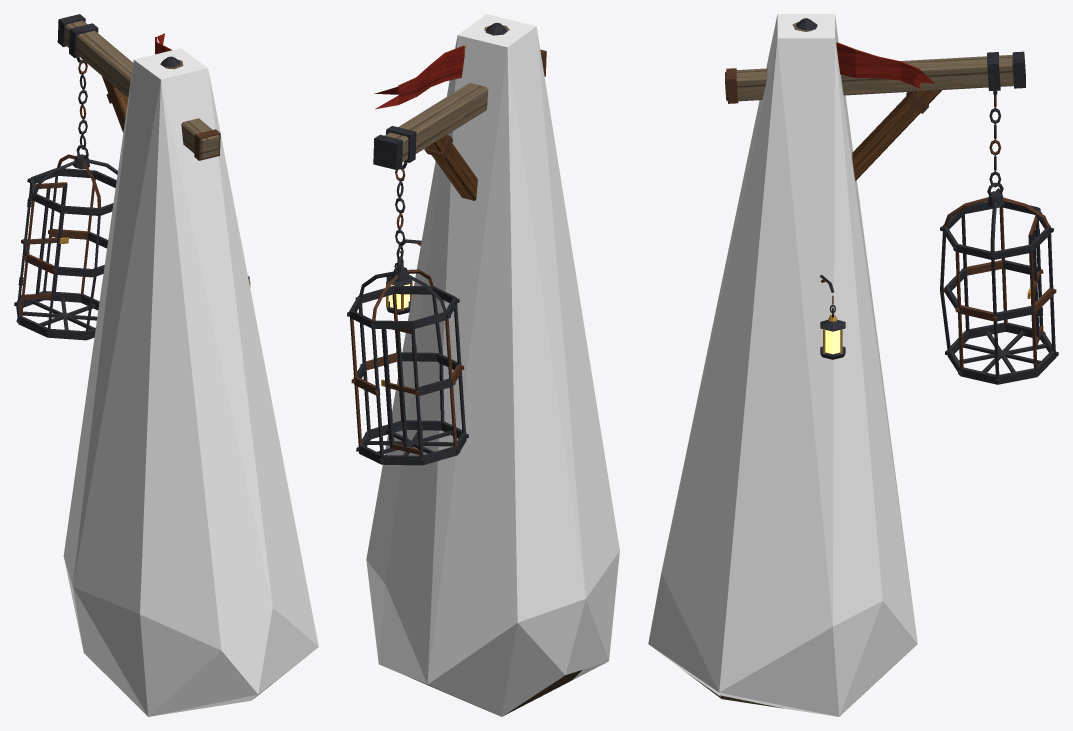
File: pirate_warning_gibbet.glb
The picture shows the model from 3 angles, left to right: view 1: azimuth 30°, elevation 25°; view 2: azimuth 150°, elevation 25°; view 3: azimuth 270°, elevation 25°; orthographic projection. The views are drawn at different scales.
Parts seen in each view (by area): view 1: col_gibbet_post, PirateWarningGibbet; view 2: col_gibbet_post, PirateWarningGibbet; view 3: col_gibbet_post, PirateWarningGibbet.
Part boxes in pixels (x1,y1,x2,y2): col_gibbet_post: (63,48,318,716); PirateWarningGibbet: (14,14,270,698); col_gibbet_post: (366,14,619,716); PirateWarningGibbet: (347,22,581,715); col_gibbet_post: (648,14,917,716); PirateWarningGibbet: (687,18,1058,708).
Size of the model in its own units: 2.9 by 8.65 by 4.86.
Materials: 8 (6 with a texture image).
